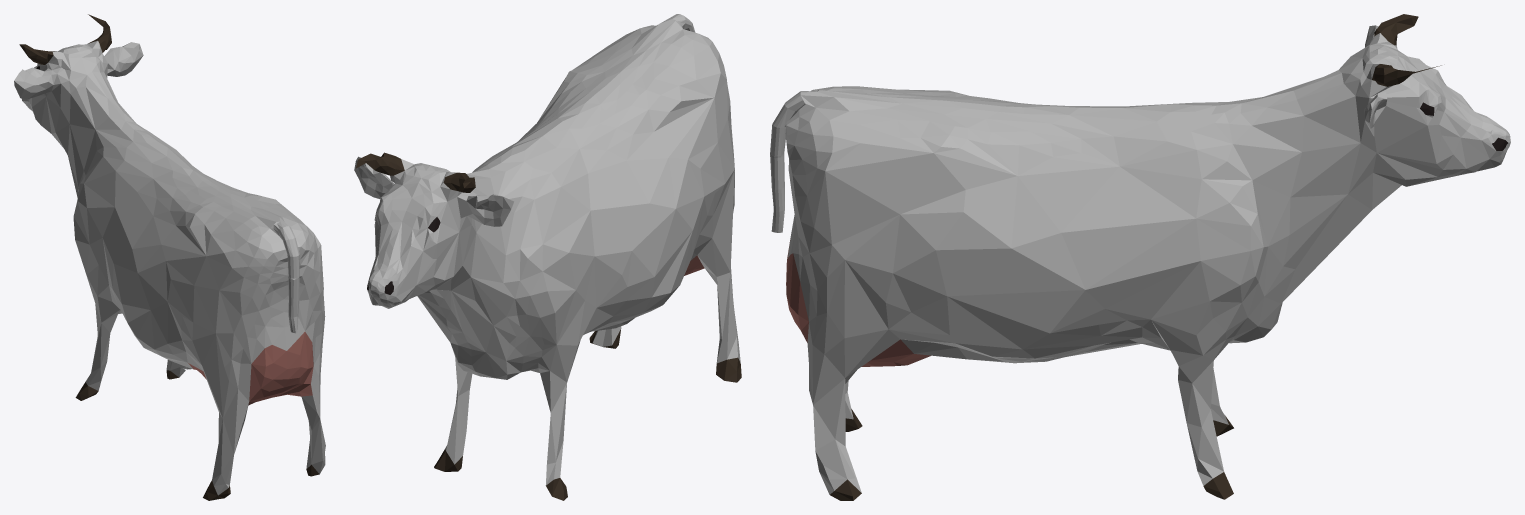
File: cow.obj
The picture shows the model from 3 angles, left to right: view 1: azimuth 30°, elevation 25°; view 2: azimuth 150°, elevation 25°; view 3: azimuth 270°, elevation 25°; orthographic projection. The views are drawn at different scales.
Parts seen in each view (by area): view 1: cow.001_cow__CowHide1, cow.001_cow__CowUdder1, cow.001_cow__CowHorns1.002, cow.001_cow__CowHooves1.001; view 2: cow.001_cow__CowHide1, cow.001_cow__CowHooves1.001, cow.001_cow__CowHorns1.002; view 3: cow.001_cow__CowHide1, cow.001_cow__CowUdder1, cow.001_cow__CowHorns1.002, cow.001_cow__CowHooves1.001.
Part boxes in pixels (x1,y1,x2,y2): cow.001_cow__CowHide1: (14, 40, 325, 495); cow.001_cow__CowUdder1: (188, 332, 313, 405); cow.001_cow__CowHorns1.002: (19, 14, 111, 64); cow.001_cow__CowHooves1.001: (75, 370, 319, 500); cow.001_cow__CowHide1: (354, 14, 740, 485); cow.001_cow__CowHooves1.001: (434, 329, 741, 500); cow.001_cow__CowHorns1.002: (356, 152, 475, 192); cow.001_cow__CowHide1: (770, 25, 1510, 494); cow.001_cow__CowUdder1: (786, 240, 930, 366); cow.001_cow__CowHorns1.002: (1372, 14, 1441, 86); cow.001_cow__CowHooves1.001: (830, 409, 1233, 500).
Size of the model in its own units: 0.5236 by 1.12 by 1.75.
